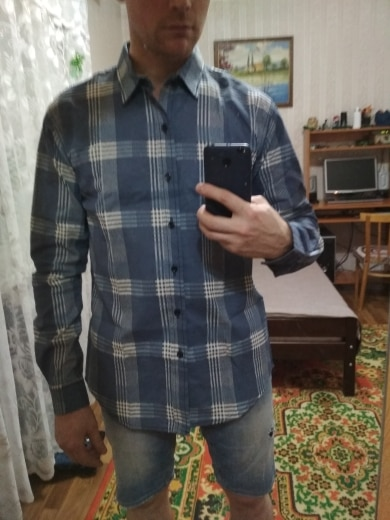shirts: (31, 45, 323, 441)
